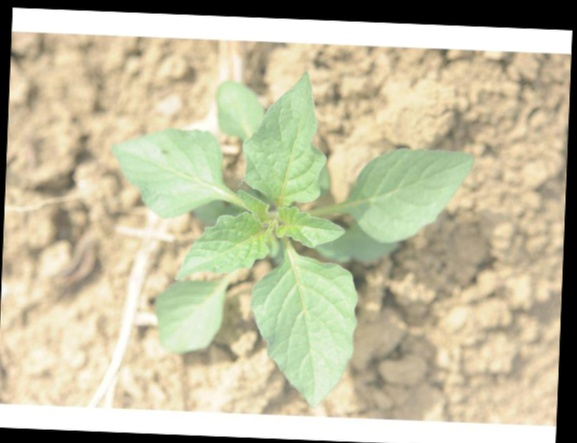nightshade: (107, 66, 473, 404)
